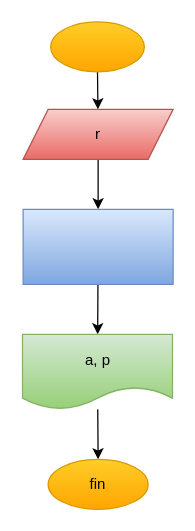
Image size: 195x531. Some labels were removed from this diagram. Here are the shapes that lost their labels. From the top down, the centre of each, then its label:
(96,46): inicio
(97,246): a=pi*r 2 p=2pi*r
